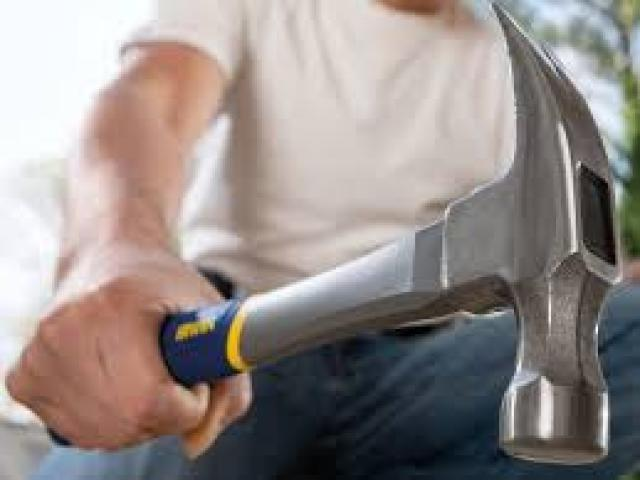Hammer: (161, 5, 620, 464)
Hand: (6, 43, 225, 449)
